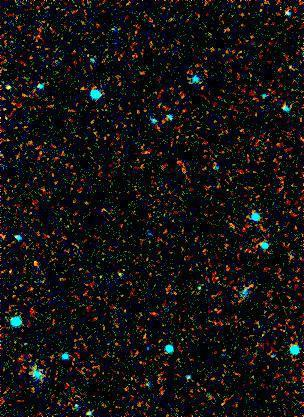star: (0, 75, 27, 105)
